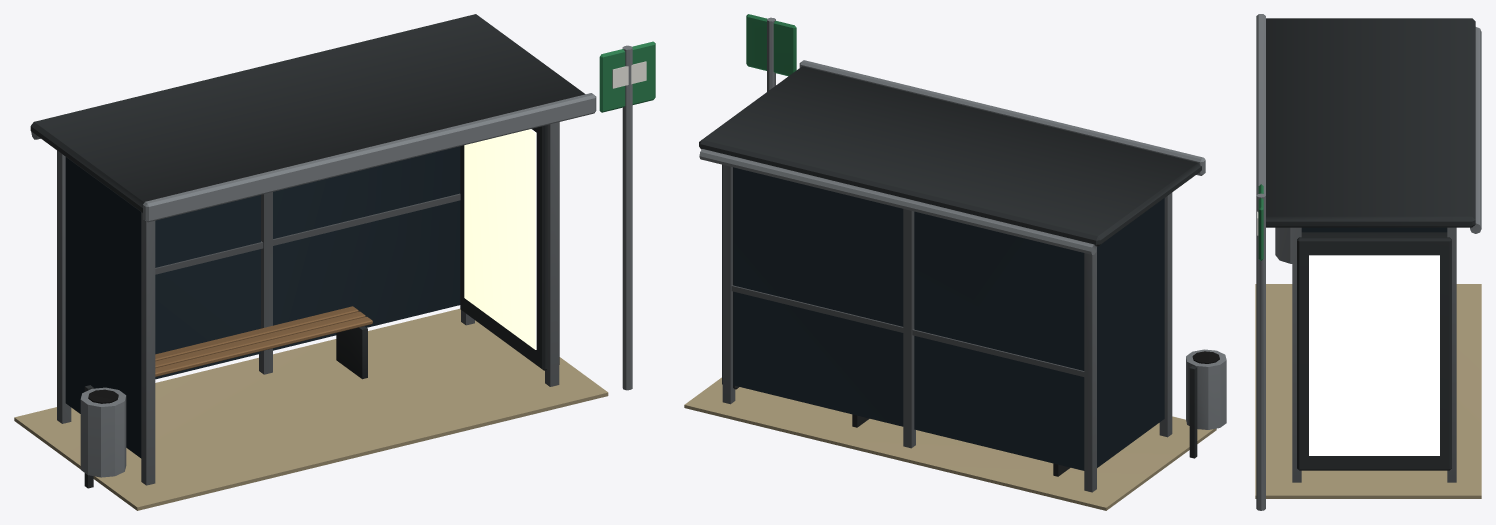
File: bus_stop.glb
3 renders of one model, left to right at view 1: azimuth 30°, elevation 25°; view 2: azimuth 150°, elevation 25°; view 3: azimuth 270°, elevation 25°, orthographic. The views are drawn at different scales.
Visible parts, largest first — view 1: bus_stop; view 2: bus_stop; view 3: bus_stop.
Boxes of the visible parts, bbox=[...] form: bus_stop: bbox=[14, 14, 655, 510]; bus_stop: bbox=[684, 14, 1226, 510]; bus_stop: bbox=[1255, 14, 1481, 510].
Bounding box in the file's own units: 4.92 × 2.9 × 1.9.
